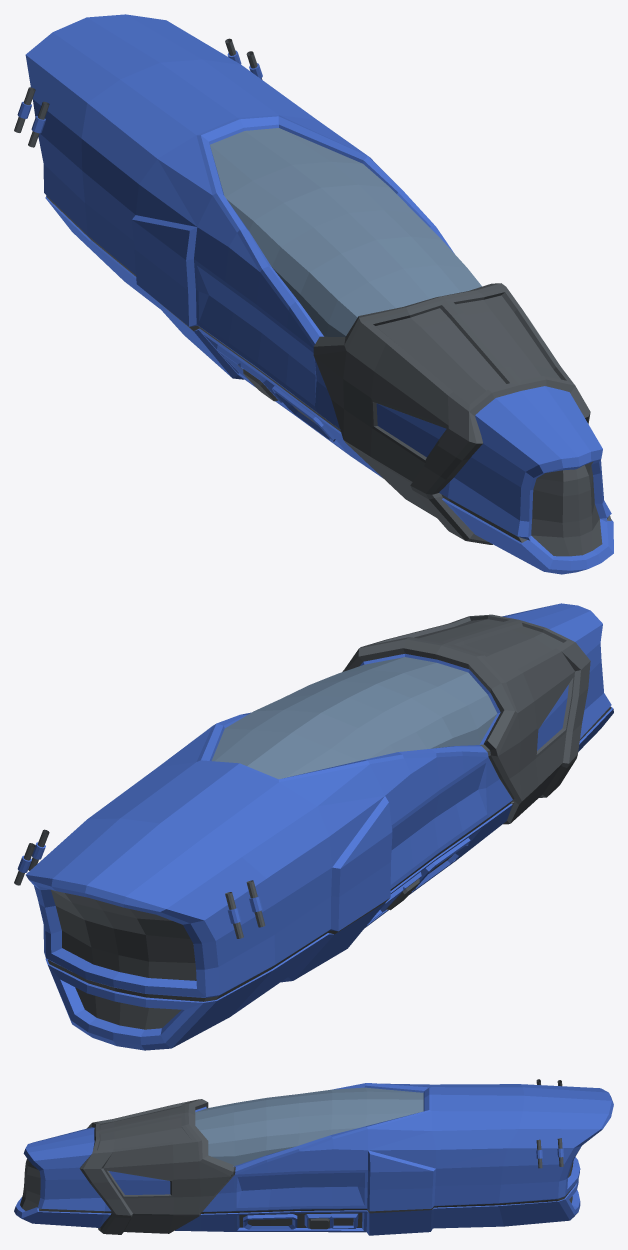
The model's file is Fighter_06_Neutral_Blue.fbx.
The picture shows the model from 3 angles, top to bottom: view 1: azimuth 30°, elevation 25°; view 2: azimuth 150°, elevation 25°; view 3: azimuth 270°, elevation 25°; orthographic projection. The views are drawn at different scales.
Visible parts, largest first — view 1: Fighter_06_Neutral_Blue; view 2: Fighter_06_Neutral_Blue; view 3: Fighter_06_Neutral_Blue.
Part boxes in pixels (x1,y1,x2,y2): Fighter_06_Neutral_Blue: (14,14,613,574); Fighter_06_Neutral_Blue: (14,603,613,1050); Fighter_06_Neutral_Blue: (14,1079,613,1235).
Size of the model in its own units: 351 by 315 by 1291.
3 materials, 3 textured.
